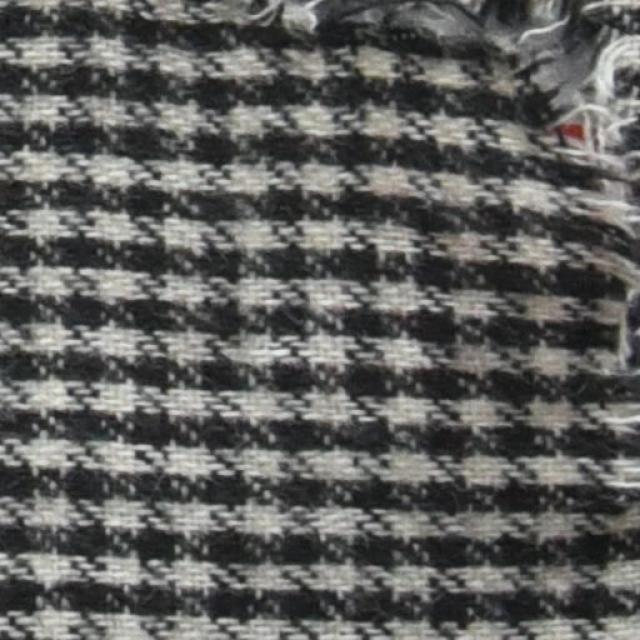Hole: (494, 8, 597, 105)
Snag: (134, 0, 639, 386), (512, 0, 639, 117)
